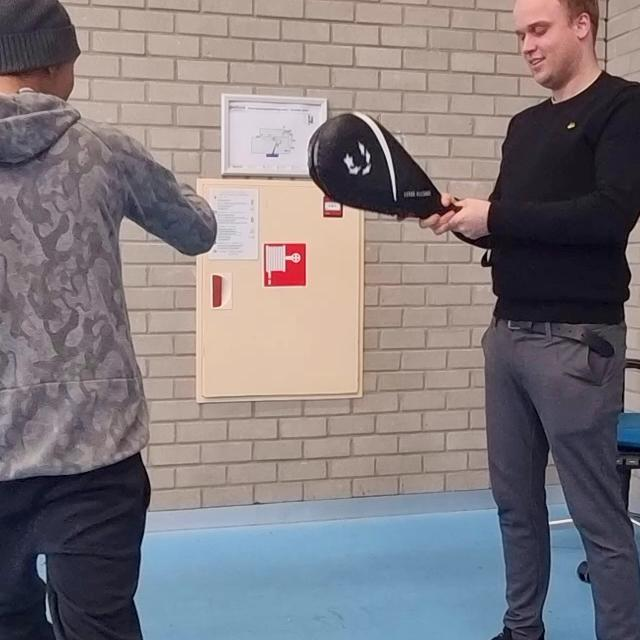paddle: (306, 113, 448, 220)
